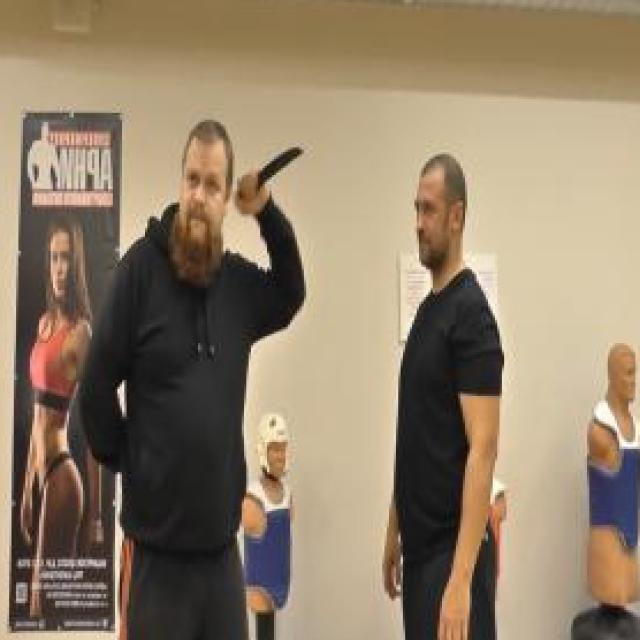knife: (232, 138, 308, 215)
